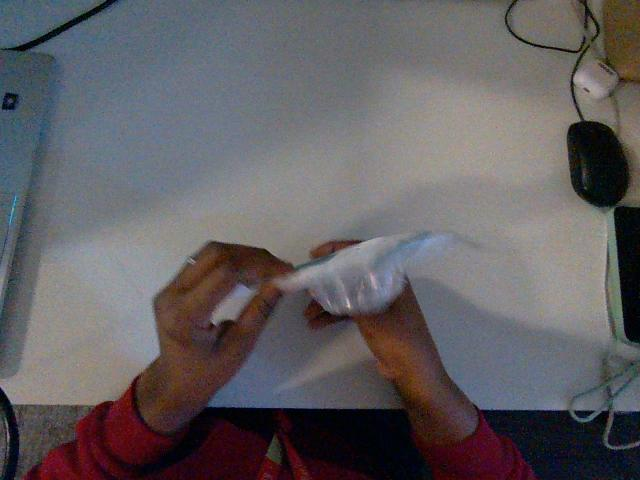gallipot: (275, 232, 457, 316)
